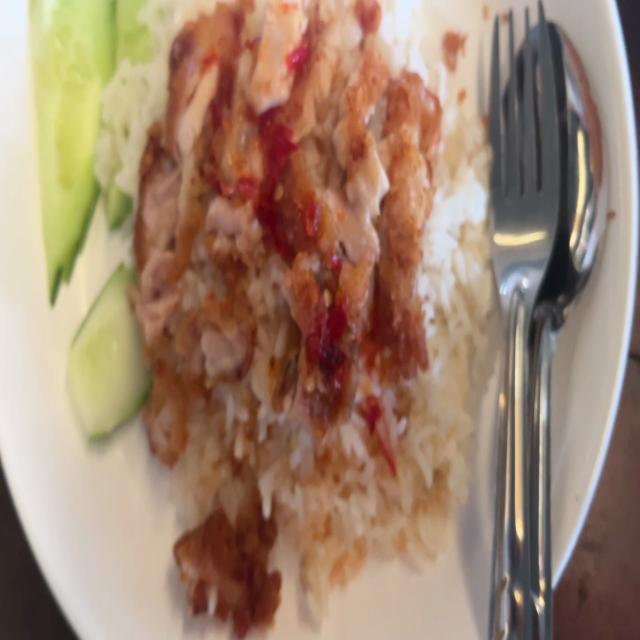chicken_rice: (13, 0, 499, 639)
cucumber: (27, 0, 165, 307), (66, 263, 154, 437)
fried_chicken: (136, 0, 432, 424), (166, 489, 300, 640)
